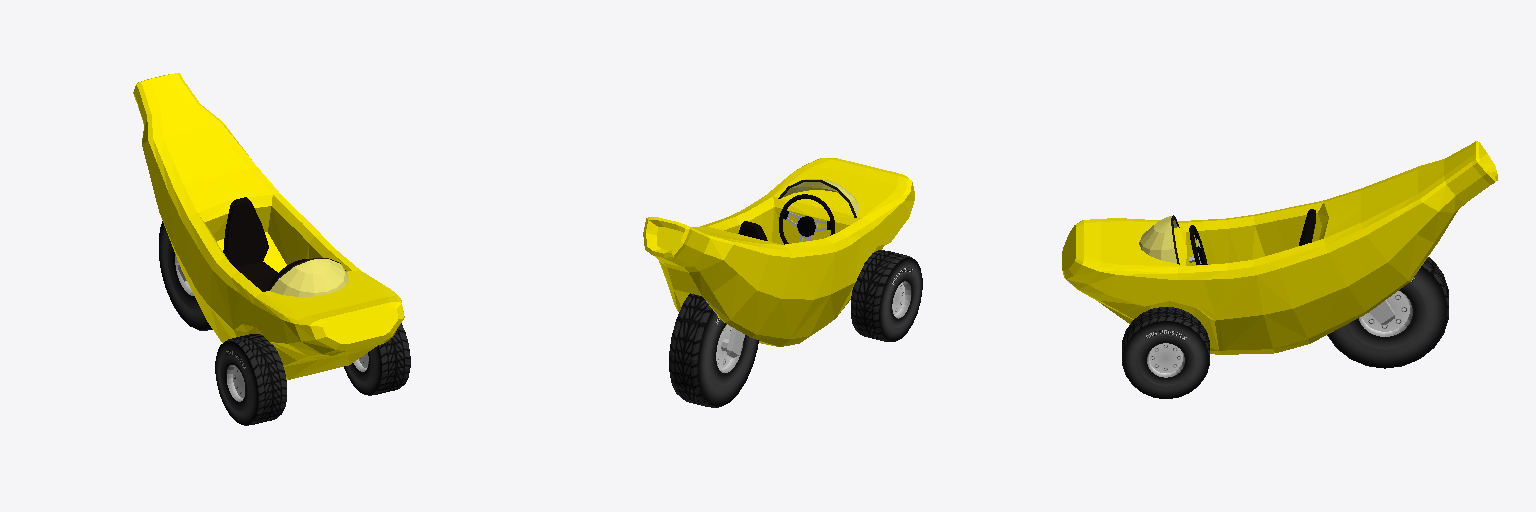
3 renders of one model, left to right at view 1: azimuth 30°, elevation 25°; view 2: azimuth 150°, elevation 25°; view 3: azimuth 270°, elevation 25°, orthographic.
Visible parts, largest first — view 1: body, tire_2, chair, tire_3, windshield, tire; view 2: body, tire, tire_2, windshield; view 3: body, tire, tire_3, windshield.
Boxes of the visible parts, x1,y1,x2,y2 form: body: [133, 73, 404, 379]; tire_2: [215, 334, 286, 425]; chair: [223, 197, 277, 291]; tire_3: [344, 323, 410, 395]; windshield: [269, 258, 348, 296]; tire: [159, 221, 212, 330]; body: [643, 158, 914, 346]; tire: [669, 293, 758, 407]; tire_2: [851, 250, 922, 341]; windshield: [778, 179, 858, 217]; body: [1062, 141, 1497, 354]; tire: [1327, 257, 1448, 368]; tire_3: [1122, 307, 1209, 398]; windshield: [1139, 215, 1179, 264].
Bounding box in the file's own units: 334 × 439 × 808.
Materials: 8 (1 with a texture image).